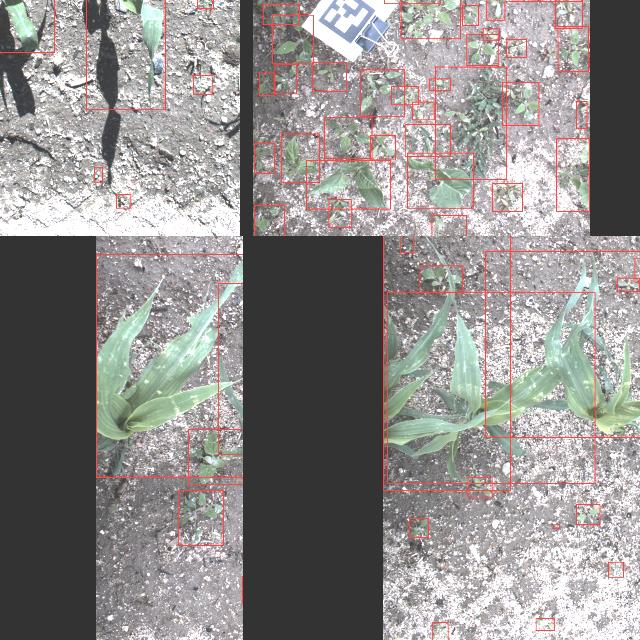crop: (387, 292, 595, 483), (95, 254, 243, 477), (383, 236, 511, 491), (486, 251, 640, 437), (86, 0, 165, 109), (306, 160, 390, 210), (407, 152, 473, 208), (281, 134, 319, 182)
weed: (436, 67, 506, 179), (187, 429, 243, 484), (178, 490, 224, 546), (556, 138, 590, 212), (400, 0, 460, 39), (272, 14, 314, 64), (360, 70, 404, 116), (324, 118, 372, 158), (502, 82, 540, 126), (405, 124, 451, 156), (558, 27, 588, 72), (420, 266, 462, 292), (312, 62, 346, 92), (467, 34, 498, 66), (254, 204, 284, 236), (492, 183, 522, 211), (555, 0, 583, 28), (431, 215, 466, 236), (263, 4, 299, 24), (370, 134, 396, 160), (274, 64, 296, 94), (329, 198, 351, 228), (254, 143, 274, 173), (391, 86, 419, 105), (576, 504, 600, 524), (468, 478, 492, 498), (408, 518, 428, 538), (412, 102, 434, 120), (258, 72, 274, 96), (506, 39, 526, 57), (487, 0, 505, 19), (194, 76, 212, 94), (463, 5, 479, 25), (576, 102, 588, 128), (617, 278, 639, 292), (432, 622, 448, 640), (429, 78, 451, 90), (399, 236, 413, 252), (608, 562, 624, 576), (482, 28, 500, 40), (536, 618, 554, 630), (116, 194, 130, 208), (197, 0, 213, 9), (94, 166, 102, 182), (635, 258, 640, 282), (554, 524, 560, 528)
